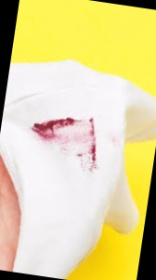lipstick: (66, 111, 106, 175), (31, 109, 82, 149)
